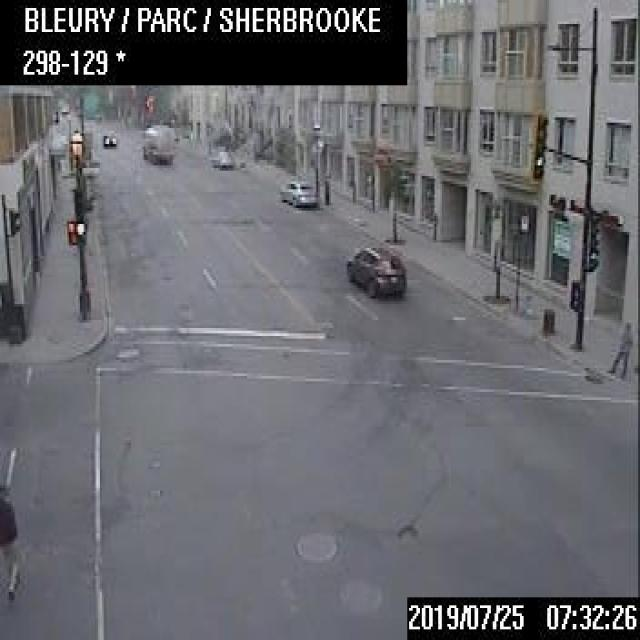pedestrian: (0, 486, 20, 598), (605, 318, 631, 376)
vehicle: (344, 242, 406, 298), (140, 122, 173, 162), (280, 176, 318, 205), (210, 147, 232, 167), (102, 130, 115, 146)
